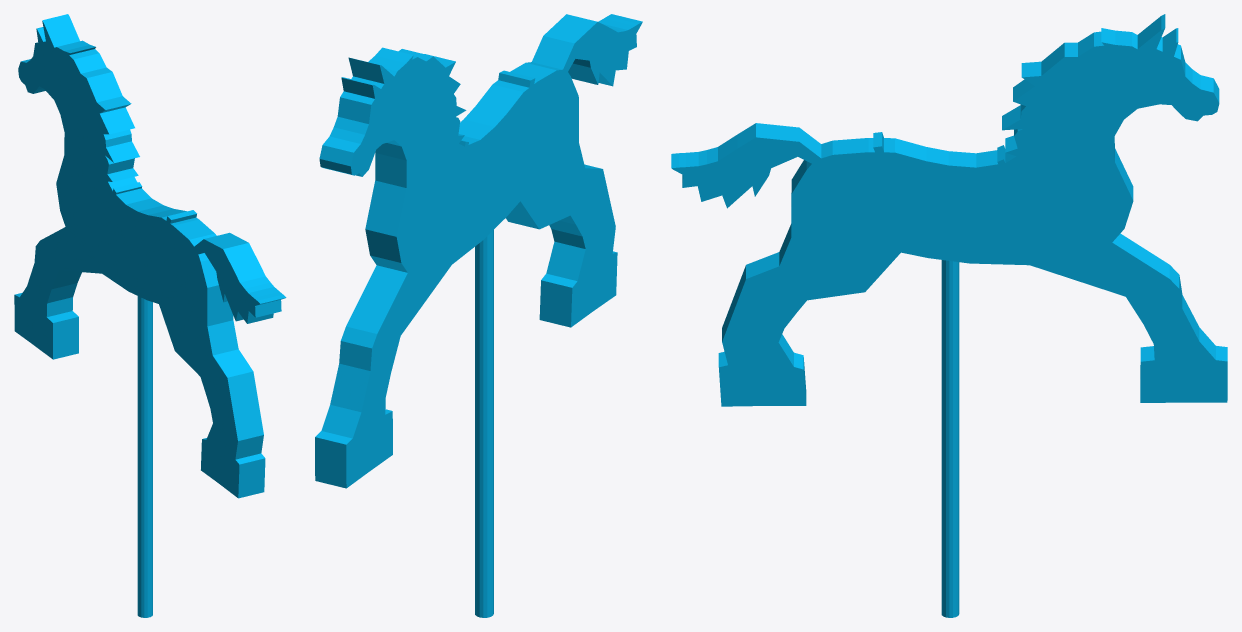
The model's file is caballo2.fbx.
The picture shows the model from 3 angles, left to right: view 1: azimuth 30°, elevation 25°; view 2: azimuth 150°, elevation 25°; view 3: azimuth 270°, elevation 25°; orthographic projection. The views are drawn at different scales.
Parts seen in each view (by area): view 1: Plane.003; view 2: Plane.003; view 3: Plane.003.
Boxes of the visible parts, x1,y1,x2,y2 form: Plane.003: (14, 14, 286, 617); Plane.003: (315, 14, 642, 617); Plane.003: (671, 14, 1227, 617).
Bounding box in the file's own units: 0.9655 × 18.7 × 15.83.
